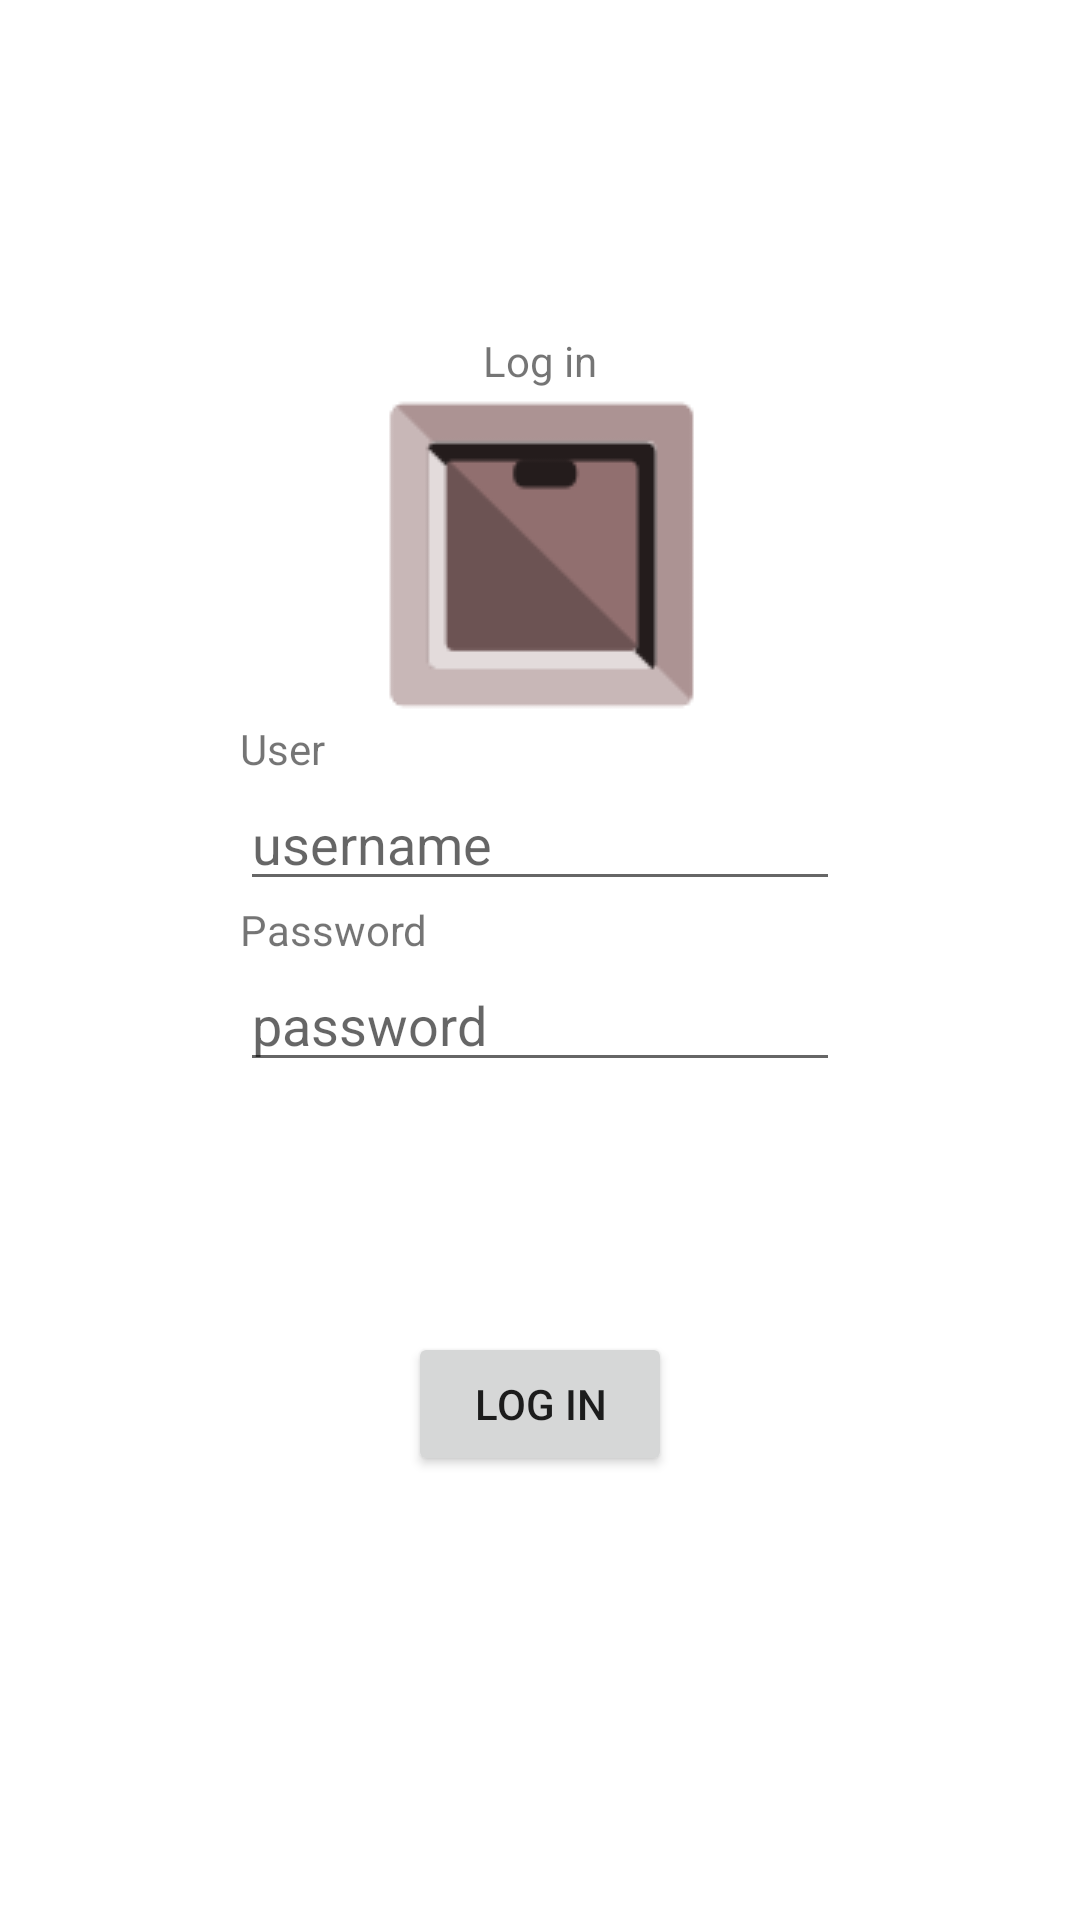

Icons on this 1080 x 1920 Android screen, each with its box as (x1, y1, x2, y2):
box: (390, 403, 694, 706)
